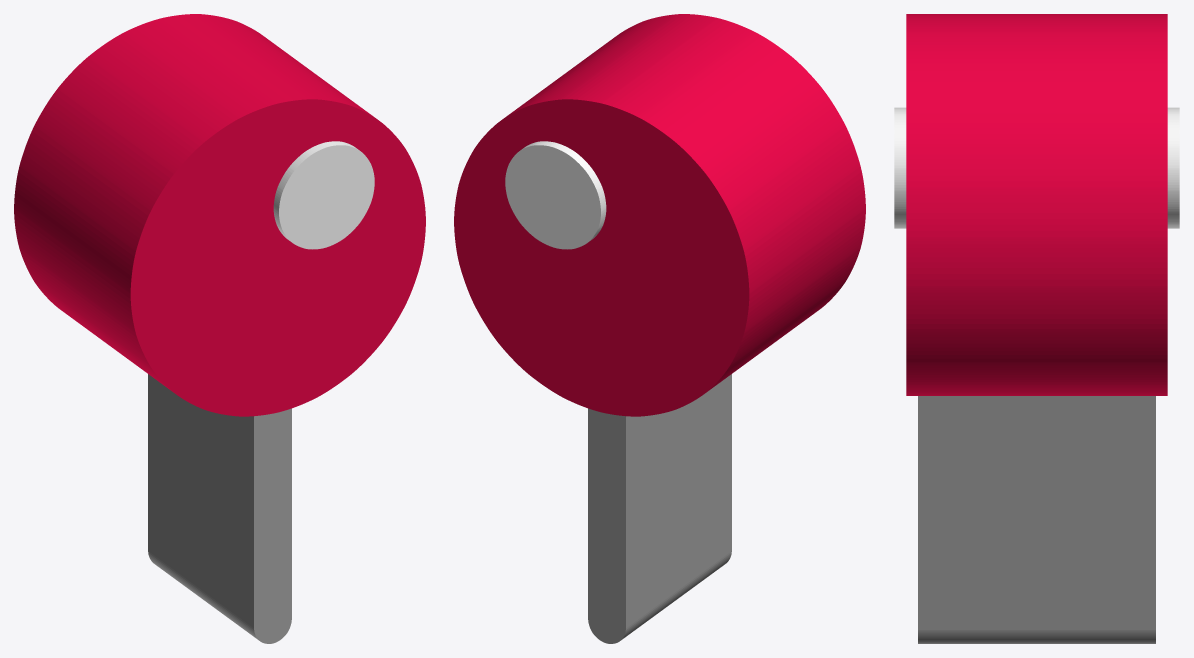
3 views of the same model, side by side, from view 1: azimuth 30°, elevation 25°; view 2: azimuth 150°, elevation 25°; view 3: azimuth 270°, elevation 25° (orthographic). The views are drawn at different scales.
Visible parts, largest first — view 1: U+1F4CD_layer01_obj00, U+1F4CD_layer00_obj00, U+1F4CD_layer02_obj00; view 2: U+1F4CD_layer01_obj00, U+1F4CD_layer00_obj00, U+1F4CD_layer02_obj00; view 3: U+1F4CD_layer01_obj00, U+1F4CD_layer00_obj00, U+1F4CD_layer02_obj00.
Part boxes in pixels (x1,y1,x2,y2): U+1F4CD_layer01_obj00: (14, 14, 425, 416); U+1F4CD_layer00_obj00: (148, 374, 291, 643); U+1F4CD_layer02_obj00: (273, 141, 374, 249); U+1F4CD_layer01_obj00: (454, 14, 865, 416); U+1F4CD_layer00_obj00: (588, 374, 731, 643); U+1F4CD_layer02_obj00: (505, 141, 606, 249); U+1F4CD_layer01_obj00: (906, 14, 1167, 395); U+1F4CD_layer00_obj00: (918, 396, 1155, 643); U+1F4CD_layer02_obj00: (894, 107, 1179, 228).
Size of the model in its own units: 0.3217 by 0.5663 by 0.24.
